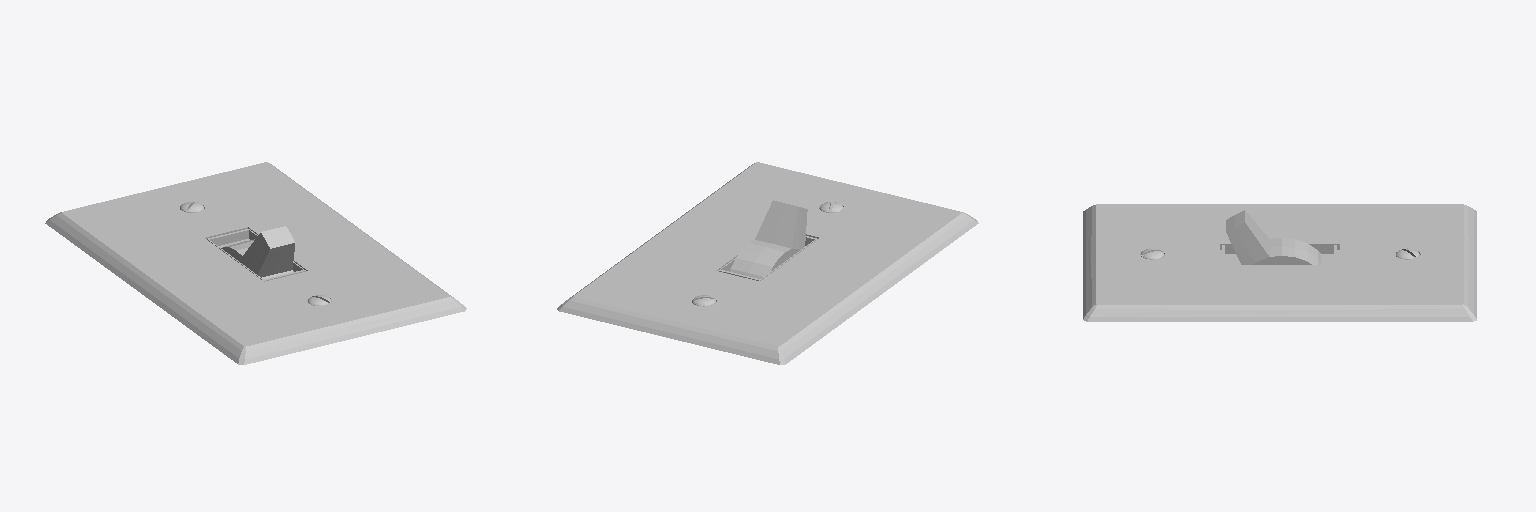
Rendered from switch.obj.
3 renders of one model, left to right at view 1: azimuth 30°, elevation 25°; view 2: azimuth 150°, elevation 25°; view 3: azimuth 270°, elevation 25°, orthographic.
Visible parts, largest first — view 1: switchbase, switchbutton; view 2: switchbase, switchbutton; view 3: switchbase, switchbutton.
Boxes of the visible parts, box(x1,y1,x2,y2) form: switchbase: box(45, 162, 466, 364); switchbutton: box(221, 226, 294, 278); switchbase: box(557, 162, 978, 364); switchbutton: box(730, 200, 807, 278); switchbase: box(1083, 204, 1476, 321); switchbutton: box(1226, 210, 1321, 264).
Bounding box in the file's own units: 1.27 × 0.4217 × 1.89.